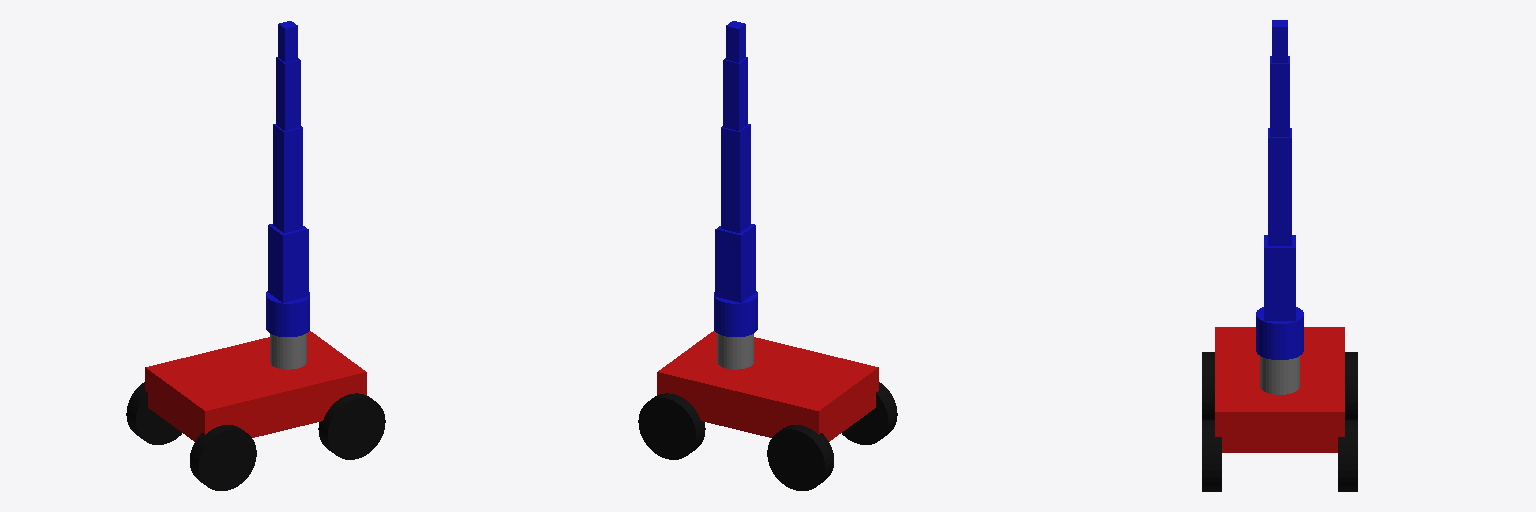
robot.urdf — pioneer_movemaster_robot:
<?xml version="1.0"?>
<robot name="pioneer_movemaster_robot">
  
  <!-- Pioneer 3AT Base -->
  <link name="base_link">
    <visual>
      <origin xyz="0 0 0.177" rpy="0 0 0"/>
      <geometry>
        <box size="0.501 0.323 0.114"/>
      </geometry>
      <material name="pioneer_red">
        <color rgba="0.8 0.1 0.1 1.0"/>
      </material>
    </visual>
    <collision>
      <origin xyz="0 0 0.177" rpy="0 0 0"/>
      <geometry>
        <box size="0.501 0.323 0.114"/>
      </geometry>
    </collision>
    <inertial>
      <mass value="16.0"/>
      <origin xyz="0 0 0.177"/>
      <inertia ixx="0.3338" ixy="0.0" ixz="0.0" iyy="1.2835" iyz="0.0" izz="1.4165"/>
    </inertial>
  </link>

  <!-- Pioneer 3AT Four Wheels -->
  <!-- Front Left Wheel -->
  <link name="front_left_wheel">
    <visual>
      <origin xyz="0 0 0" rpy="1.5708 0 0"/>
      <geometry>
        <cylinder radius="0.09" length="0.05"/>
      </geometry>
      <material name="wheel_black">
        <color rgba="0.1 0.1 0.1 1.0"/>
      </material>
    </visual>
    <collision>
      <origin xyz="0 0 0" rpy="1.5708 0 0"/>
      <geometry>
        <cylinder radius="0.09" length="0.05"/>
      </geometry>
    </collision>
    <inertial>
      <mass value="0.5"/>
      <origin xyz="0 0 0"/>
      <inertia ixx="0.01" ixy="0.0" ixz="0.0" iyy="0.005" iyz="0.0" izz="0.005"/>
    </inertial>
  </link>

  <!-- Front Right Wheel -->
  <link name="front_right_wheel">
    <visual>
      <origin xyz="0 0 0" rpy="1.5708 0 0"/>
      <geometry>
        <cylinder radius="0.09" length="0.05"/>
      </geometry>
      <material name="wheel_black">
        <color rgba="0.1 0.1 0.1 1.0"/>
      </material>
    </visual>
    <collision>
      <origin xyz="0 0 0" rpy="1.5708 0 0"/>
      <geometry>
        <cylinder radius="0.09" length="0.05"/>
      </geometry>
    </collision>
    <inertial>
      <mass value="0.5"/>
      <origin xyz="0 0 0"/>
      <inertia ixx="0.01" ixy="0.0" ixz="0.0" iyy="0.005" iyz="0.0" izz="0.005"/>
    </inertial>
  </link>

  <!-- Rear Left Wheel -->
  <link name="rear_left_wheel">
    <visual>
      <origin xyz="0 0 0" rpy="1.5708 0 0"/>
      <geometry>
        <cylinder radius="0.09" length="0.05"/>
      </geometry>
      <material name="wheel_black">
        <color rgba="0.1 0.1 0.1 1.0"/>
      </material>
    </visual>
    <collision>
      <origin xyz="0 0 0" rpy="1.5708 0 0"/>
      <geometry>
        <cylinder radius="0.09" length="0.05"/>
      </geometry>
    </collision>
    <inertial>
      <mass value="0.5"/>
      <origin xyz="0 0 0"/>
      <inertia ixx="0.01" ixy="0.0" ixz="0.0" iyy="0.005" iyz="0.0" izz="0.005"/>
    </inertial>
  </link>

  <!-- Rear Right Wheel -->
  <link name="rear_right_wheel">
    <visual>
      <origin xyz="0 0 0" rpy="1.5708 0 0"/>
      <geometry>
        <cylinder radius="0.09" length="0.05"/>
      </geometry>
      <material name="wheel_black">
        <color rgba="0.1 0.1 0.1 1.0"/>
      </material>
    </visual>
    <collision>
      <origin xyz="0 0 0" rpy="1.5708 0 0"/>
      <geometry>
        <cylinder radius="0.09" length="0.05"/>
      </geometry>
    </collision>
    <inertial>
      <mass value="0.5"/>
      <origin xyz="0 0 0"/>
      <inertia ixx="0.01" ixy="0.0" ixz="0.0" iyy="0.005" iyz="0.0" izz="0.005"/>
    </inertial>
  </link>

  <!-- Four Wheel Joints -->
  <!-- Front wheels are steered (revolute), rear wheels are driven (continuous) -->
  <joint name="front_left_wheel_joint" type="revolute">
    <parent link="base_link"/>
    <child link="front_left_wheel"/>
    <origin xyz="0.2 0.17 0.09" rpy="0 0 0"/>
    <axis xyz="0 0 1"/>
    <limit lower="-0.7854" upper="0.7854" effort="10" velocity="1.0"/>
  </joint>

  <joint name="front_right_wheel_joint" type="revolute">
    <parent link="base_link"/>
    <child link="front_right_wheel"/>
    <origin xyz="0.2 -0.17 0.09" rpy="0 0 0"/>
    <axis xyz="0 0 1"/>
    <limit lower="-0.7854" upper="0.7854" effort="10" velocity="1.0"/>
  </joint>

  <joint name="rear_left_wheel_joint" type="continuous">
    <parent link="base_link"/>
    <child link="rear_left_wheel"/>
    <origin xyz="-0.2 0.17 0.09" rpy="0 0 0"/>
    <axis xyz="0 1 0"/>
  </joint>

  <joint name="rear_right_wheel_joint" type="continuous">
    <parent link="base_link"/>
    <child link="rear_right_wheel"/>
    <origin xyz="-0.2 -0.17 0.09" rpy="0 0 0"/>
    <axis xyz="0 1 0"/>
  </joint>

  <!-- Movemaster R1 Base Mount -->
  <link name="arm_base_mount">
    <visual>
      <origin xyz="0 0 0.05" rpy="0 0 0"/>
      <geometry>
        <cylinder radius="0.05" length="0.1"/>
      </geometry>
      <material name="mount_gray">
        <color rgba="0.5 0.5 0.5 1.0"/>
      </material>
    </visual>
    <collision>
      <origin xyz="0 0 0.05" rpy="0 0 0"/>
      <geometry>
        <cylinder radius="0.05" length="0.1"/>
      </geometry>
    </collision>
    <inertial>
      <mass value="1.0"/>
      <origin xyz="0 0 0.05"/>
      <inertia ixx="0.01" ixy="0.0" ixz="0.0" iyy="0.01" iyz="0.0" izz="0.001"/>
    </inertial>
  </link>

  <joint name="arm_mount_joint" type="fixed">
    <parent link="base_link"/>
    <child link="arm_base_mount"/>
    <origin xyz="0.1 0 0.234" rpy="0 0 0"/>
  </joint>

  <!-- Rest of the arm components remain the same -->
  <link name="arm_base">
    <visual>
      <origin xyz="0 0 0.05" rpy="0 0 0"/>
      <geometry>
        <cylinder radius="0.06" length="0.1"/>
      </geometry>
      <material name="arm_blue">
        <color rgba="0.1 0.1 0.8 1.0"/>
      </material>
    </visual>
    <collision>
      <origin xyz="0 0 0.05" rpy="0 0 0"/>
      <geometry>
        <cylinder radius="0.06" length="0.1"/>
      </geometry>
    </collision>
    <inertial>
      <mass value="2.0"/>
      <origin xyz="0 0 0.05"/>
      <inertia ixx="0.02" ixy="0.0" ixz="0.0" iyy="0.02" iyz="0.0" izz="0.01"/>
    </inertial>
  </link>

  <link name="shoulder">
    <visual>
      <origin xyz="0 0 0.1" rpy="0 0 0"/>
      <geometry>
        <box size="0.08 0.08 0.2"/>
      </geometry>
      <material name="arm_blue"/>
    </visual>
    <collision>
      <origin xyz="0 0 0.1" rpy="0 0 0"/>
      <geometry>
        <box size="0.08 0.08 0.2"/>
      </geometry>
    </collision>
    <inertial>
      <mass value="1.5"/>
      <origin xyz="0 0 0.1"/>
      <inertia ixx="0.015" ixy="0.0" ixz="0.0" iyy="0.015" iyz="0.0" izz="0.008"/>
    </inertial>
  </link>

  <link name="upper_arm">
    <visual>
      <origin xyz="0 0 0.15" rpy="0 0 0"/>
      <geometry>
        <box size="0.06 0.06 0.3"/>
      </geometry>
      <material name="arm_blue"/>
    </visual>
    <collision>
      <origin xyz="0 0 0.15" rpy="0 0 0"/>
      <geometry>
        <box size="0.06 0.06 0.3"/>
      </geometry>
    </collision>
    <inertial>
      <mass value="1.2"/>
      <origin xyz="0 0 0.15"/>
      <inertia ixx="0.012" ixy="0.0" ixz="0.0" iyy="0.012" iyz="0.0" izz="0.006"/>
    </inertial>
  </link>

  <link name="forearm">
    <visual>
      <origin xyz="0 0 0.1" rpy="0 0 0"/>
      <geometry>
        <box size="0.05 0.05 0.2"/>
      </geometry>
      <material name="arm_blue"/>
    </visual>
    <collision>
      <origin xyz="0 0 0.1" rpy="0 0 0"/>
      <geometry>
        <box size="0.05 0.05 0.2"/>
      </geometry>
    </collision>
    <inertial>
      <mass value="0.8"/>
      <origin xyz="0 0 0.1"/>
      <inertia ixx="0.008" ixy="0.0" ixz="0.0" iyy="0.008" iyz="0.0" izz="0.004"/>
    </inertial>
  </link>

  <link name="end_effector">
    <visual>
      <origin xyz="0 0 0.05" rpy="0 0 0"/>
      <geometry>
        <box size="0.04 0.04 0.1"/>
      </geometry>
      <material name="arm_blue"/>
    </visual>
    <collision>
      <origin xyz="0 0 0.05" rpy="0 0 0"/>
      <geometry>
        <box size="0.04 0.04 0.1"/>
      </geometry>
    </collision>
    <inertial>
      <mass value="0.5"/>
      <origin xyz="0 0 0.05"/>
      <inertia ixx="0.005" ixy="0.0" ixz="0.0" iyy="0.005" iyz="0.0" izz="0.002"/>
    </inertial>
  </link>

  <!-- Arm Joints -->
  <joint name="base_joint" type="revolute">
    <parent link="arm_base_mount"/>
    <child link="arm_base"/>
    <origin xyz="0 0 0.1" rpy="0 0 0"/>
    <axis xyz="0 0 1"/>
    <limit lower="-3.14159" upper="3.14159" effort="10" velocity="1.0"/>
  </joint>

  <joint name="shoulder_joint" type="revolute">
    <parent link="arm_base"/>
    <child link="shoulder"/>
    <origin xyz="0 0 0.1" rpy="0 0 0"/>
    <axis xyz="0 1 0"/>
    <limit lower="-1.57" upper="1.57" effort="10" velocity="1.0"/>
  </joint>

  <joint name="elbow_joint" type="revolute">
    <parent link="shoulder"/>
    <child link="upper_arm"/>
    <origin xyz="0 0 0.2" rpy="0 0 0"/>
    <axis xyz="0 1 0"/>
    <limit lower="-2.0" upper="2.0" effort="10" velocity="1.0"/>
  </joint>

  <joint name="wrist_joint" type="revolute">
    <parent link="upper_arm"/>
    <child link="forearm"/>
    <origin xyz="0 0 0.3" rpy="0 0 0"/>
    <axis xyz="0 1 0"/>
    <limit lower="-1.57" upper="1.57" effort="5" velocity="1.0"/>
  </joint>

  <joint name="end_effector_joint" type="revolute">
    <parent link="forearm"/>
    <child link="end_effector"/>
    <origin xyz="0 0 0.2" rpy="0 0 0"/>
    <axis xyz="0 0 1"/>
    <limit lower="-3.14159" upper="3.14159" effort="2" velocity="1.0"/>
  </joint>

</robot>

--- Render facts (derived) ---
The picture shows the robot from 3 angles, left to right: view 1: azimuth 30°, elevation 25°; view 2: azimuth 150°, elevation 25°; view 3: azimuth 270°, elevation 25°; orthographic projection.
Robot: pioneer_movemaster_robot — 11 links, 10 joints (7 revolute, 2 continuous, 1 fixed); root link base_link; default pose: all joints at 0.
Visible links, largest first — view 1: base_link, rear_right_wheel, front_right_wheel, upper_arm, shoulder, forearm, rear_left_wheel, arm_base, arm_base_mount, end_effector; view 2: base_link, rear_left_wheel, front_left_wheel, upper_arm, shoulder, forearm, rear_right_wheel, arm_base, arm_base_mount, end_effector; view 3: base_link, upper_arm, shoulder, arm_base, forearm, arm_base_mount, front_left_wheel, front_right_wheel, rear_left_wheel, rear_right_wheel, end_effector.
Link boxes in pixels (bbox=[...]): base_link: bbox=[145, 331, 366, 441]; rear_right_wheel: bbox=[190, 425, 256, 490]; front_right_wheel: bbox=[318, 393, 385, 459]; upper_arm: bbox=[273, 124, 302, 232]; shoulder: bbox=[268, 224, 308, 302]; forearm: bbox=[276, 57, 300, 130]; rear_left_wheel: bbox=[126, 382, 181, 444]; arm_base: bbox=[266, 291, 309, 336]; arm_base_mount: bbox=[270, 333, 306, 369]; end_effector: bbox=[278, 21, 297, 62]; base_link: bbox=[657, 331, 878, 441]; rear_left_wheel: bbox=[767, 425, 833, 490]; front_left_wheel: bbox=[638, 393, 705, 459]; upper_arm: bbox=[721, 124, 750, 232]; shoulder: bbox=[715, 224, 755, 302]; forearm: bbox=[723, 57, 747, 130]; rear_right_wheel: bbox=[842, 382, 897, 444]; arm_base: bbox=[714, 291, 757, 336]; arm_base_mount: bbox=[717, 333, 753, 369]; end_effector: bbox=[726, 21, 745, 62]; base_link: bbox=[1215, 327, 1344, 452]; upper_arm: bbox=[1268, 128, 1291, 245]; shoulder: bbox=[1264, 235, 1295, 320]; arm_base: bbox=[1256, 307, 1303, 359]; forearm: bbox=[1270, 56, 1289, 136]; arm_base_mount: bbox=[1260, 356, 1299, 394]; front_left_wheel: bbox=[1338, 420, 1357, 491]; front_right_wheel: bbox=[1202, 420, 1221, 491]; rear_left_wheel: bbox=[1345, 352, 1357, 419]; rear_right_wheel: bbox=[1202, 352, 1214, 419]; end_effector: bbox=[1272, 20, 1287, 62].
Size in the robot's own frame: 0.58 by 0.39 by 1.23 metres.
Geometry: primitives only (box / cylinder / sphere), no mesh files.
